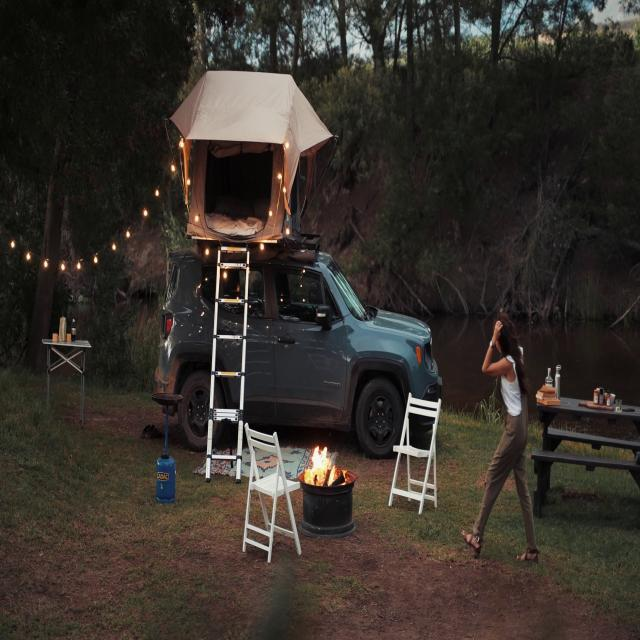Fire: (299, 438, 338, 486)
